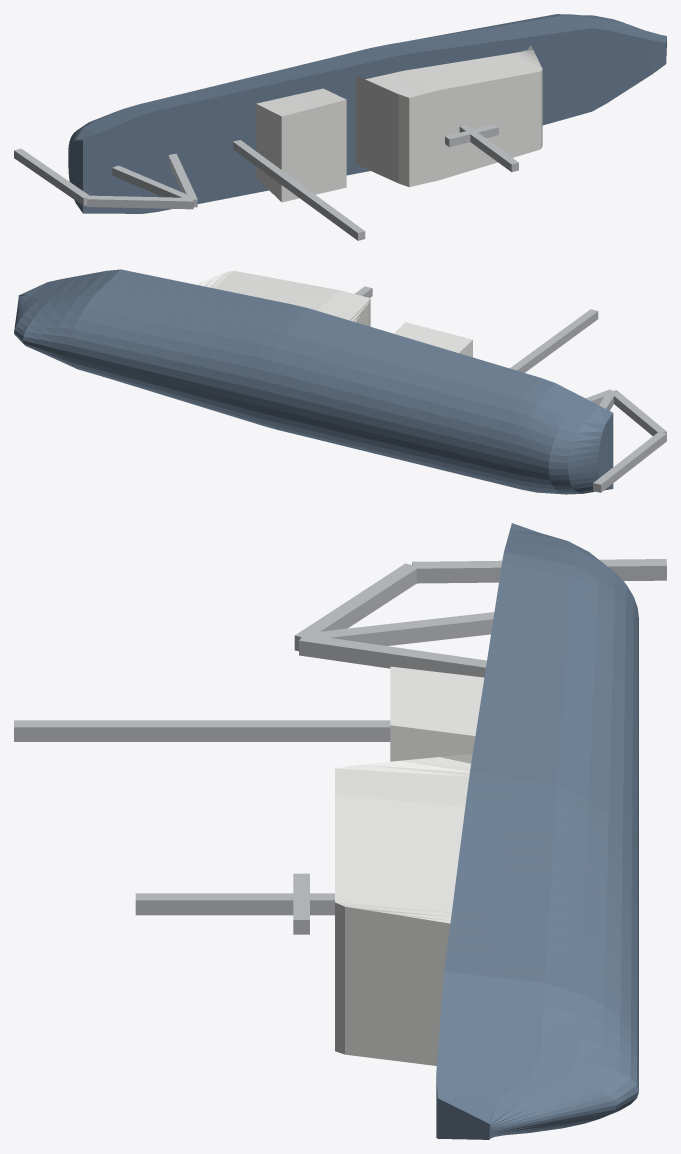
The model's file is mine-clearance-loft.glb.
3 renders of one model, top to bottom at view 1: azimuth 30°, elevation 25°; view 2: azimuth 150°, elevation 25°; view 3: azimuth 270°, elevation 25°, orthographic. The views are drawn at different scales.
Visible parts, largest first — view 1: mine-clearance; view 2: mine-clearance; view 3: mine-clearance.
Boxes of the visible parts, x1=… form: mine-clearance: x1=14, y1=14, x2=666, y2=240; mine-clearance: x1=14, y1=269, x2=666, y2=494; mine-clearance: x1=14, y1=523, x2=666, y2=1139.
Size of the model in its own units: 1.96 by 0.3394 by 0.9571.
